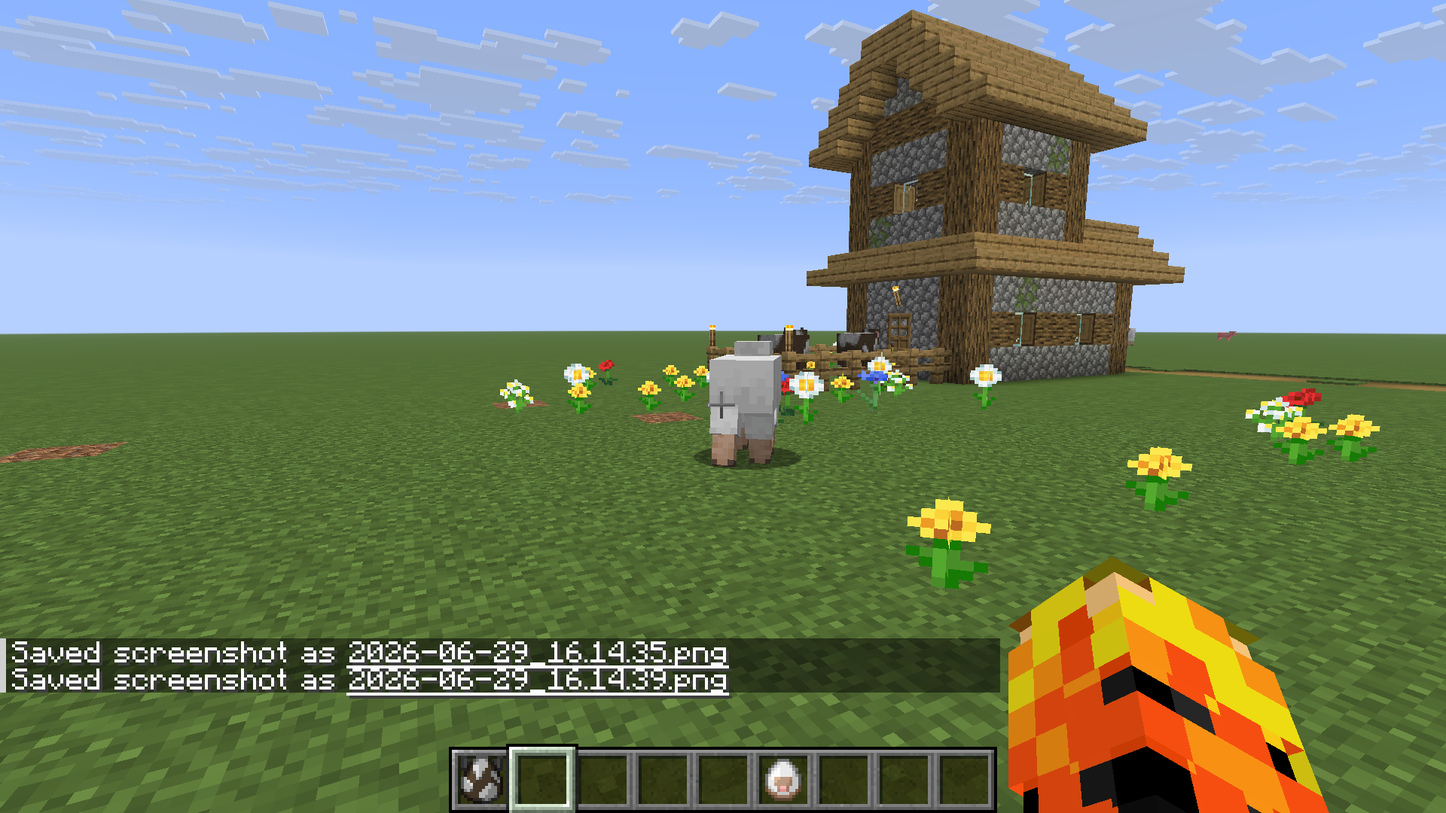Sheep: (712, 332, 778, 472)
Torch: (889, 277, 905, 311)
cow: (831, 322, 882, 358)
